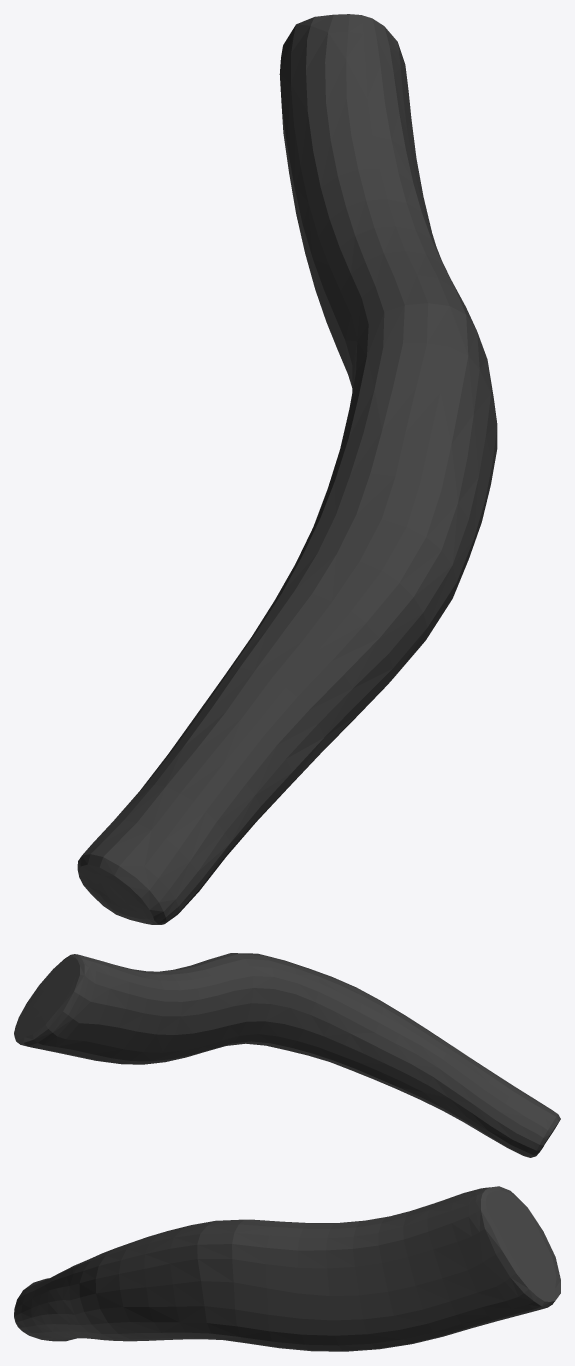
Rendered from NERVE_cochlear_VIII_L.glb.
3 renders of one model, top to bottom at view 1: azimuth 30°, elevation 25°; view 2: azimuth 150°, elevation 25°; view 3: azimuth 270°, elevation 25°, orthographic. The views are drawn at different scales.
Visible parts, largest first — view 1: NERVE_cochlear_VIII_L; view 2: NERVE_cochlear_VIII_L; view 3: NERVE_cochlear_VIII_L.
Boxes of the visible parts, x1,y1,x2,y2 form: NERVE_cochlear_VIII_L: (77,14,497,924); NERVE_cochlear_VIII_L: (14,953,560,1157); NERVE_cochlear_VIII_L: (14,1186,560,1351).
Bounding box in the file's own units: 1.72 × 1.22 × 1.89.
1 material, 1 textured.
